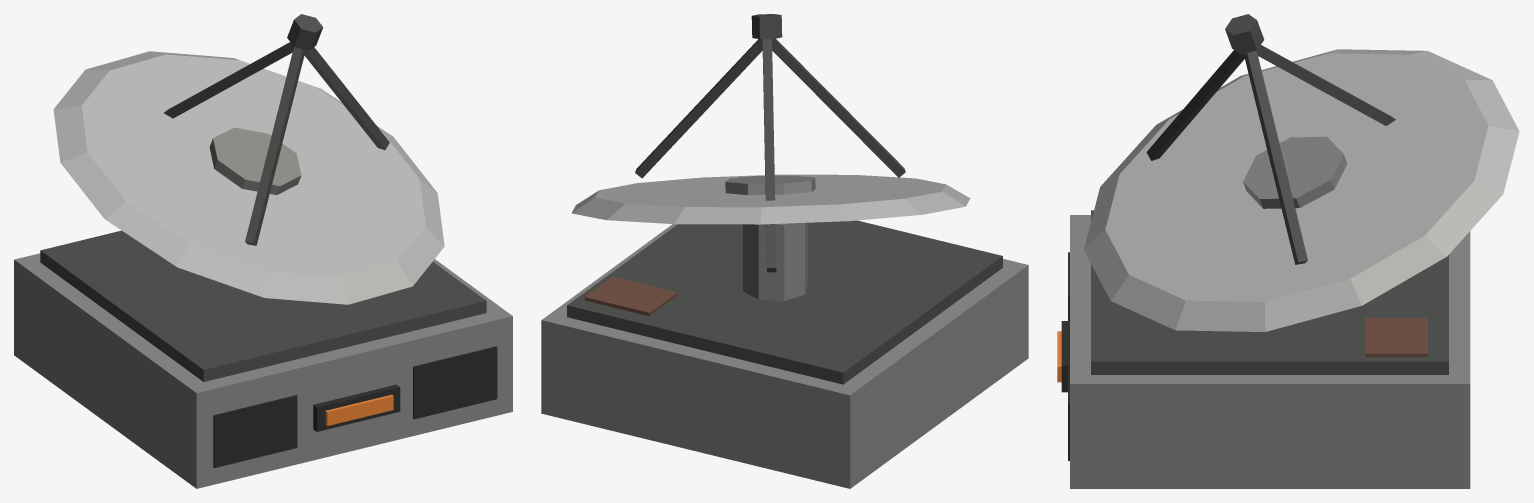
The model's file is ancient_uplink.obj.
3 renders of one model, left to right at view 1: azimuth 30°, elevation 25°; view 2: azimuth 150°, elevation 25°; view 3: azimuth 270°, elevation 25°, orthographic. The views are drawn at different scales.
Parts seen in each view (by area): view 1: ancient_uplink; view 2: ancient_uplink; view 3: ancient_uplink.
Boxes of the visible parts, <box> form: ancient_uplink: <box>14,14,512,488</box>; ancient_uplink: <box>541,14,1028,488</box>; ancient_uplink: <box>1057,14,1519,488</box>.
Bounding box in the file's own units: 2.07 × 2.1 × 2.19.
